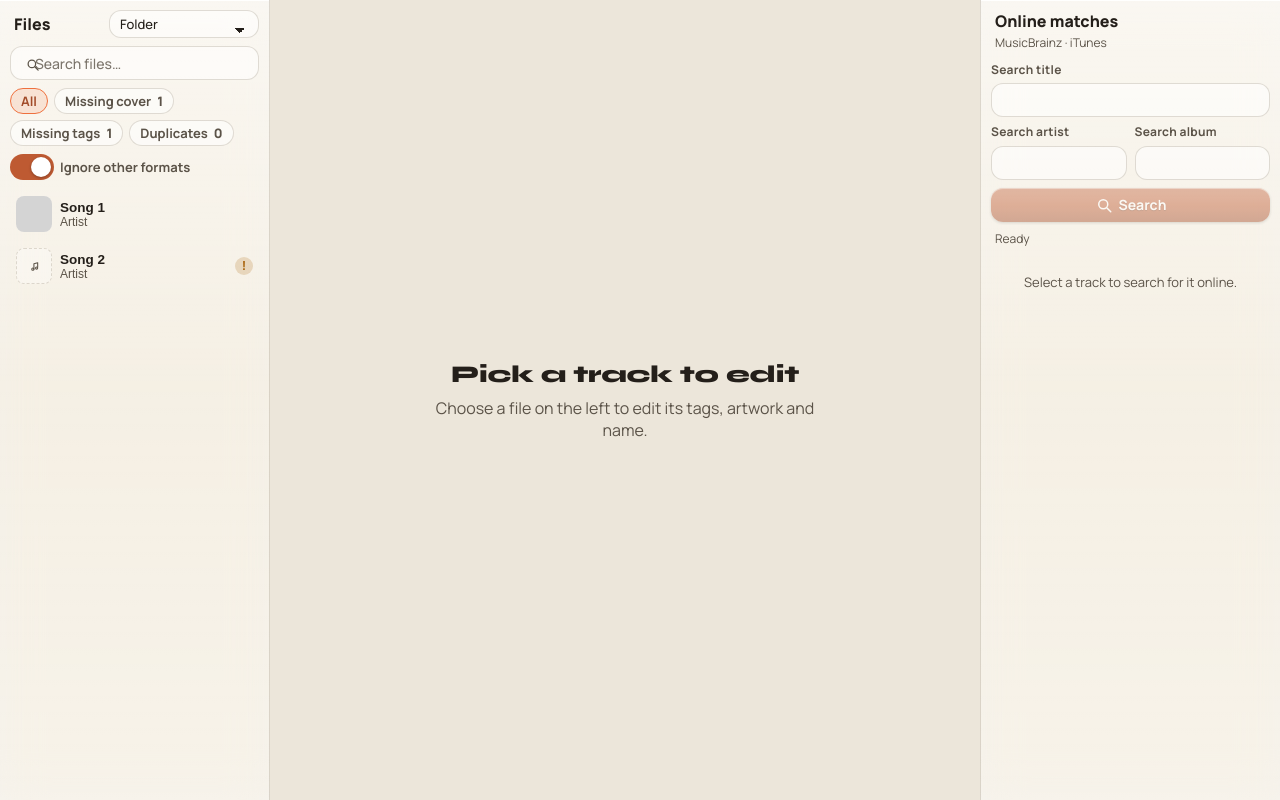
Test: TagEditorScreen › opens a track from the list and fills the form
Click the button "Song 1 Artist" at (134, 214), box [8,188,261,240]
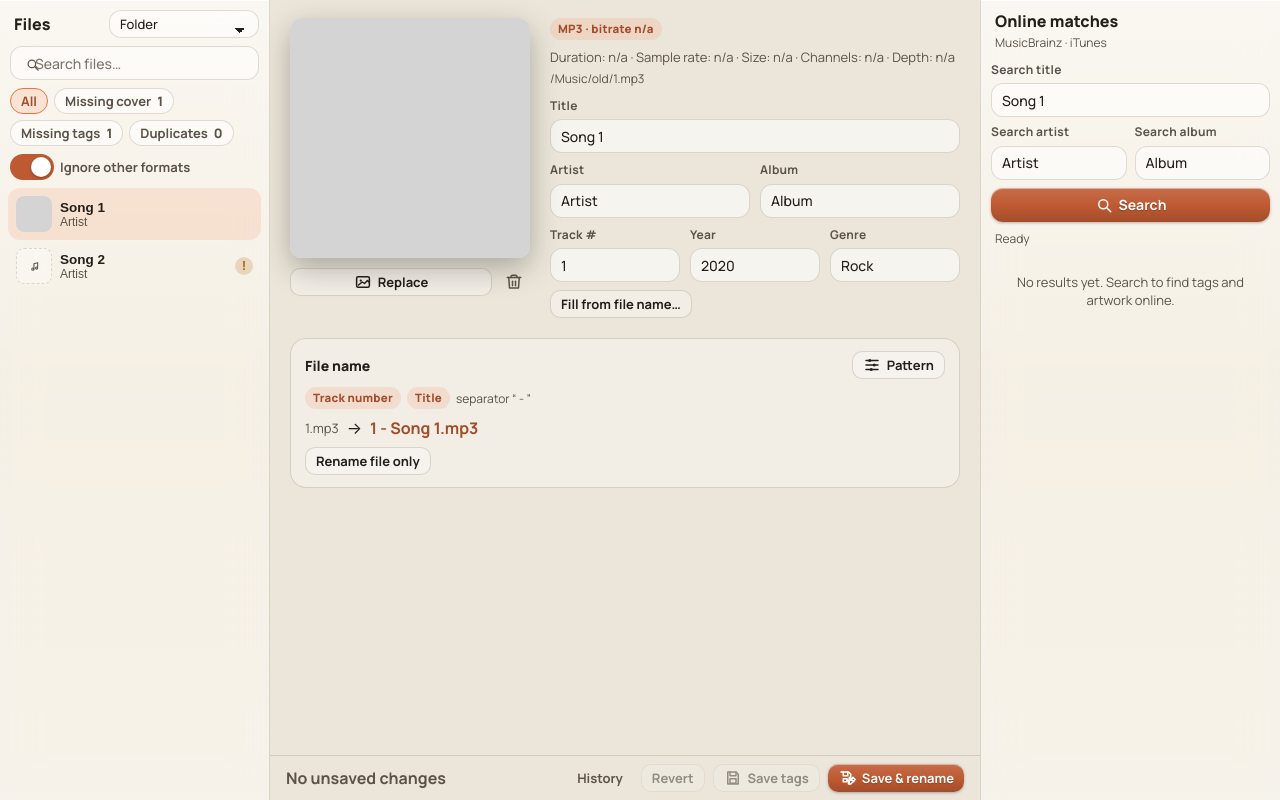
Now the field labelled "Title" holds "Song 1", box [550,119,960,153]
Now the field labelled "Genre" holds "Rock", box [830,248,960,282]
Now the text "No unsaved changes" is shown, box [286,767,446,789]
